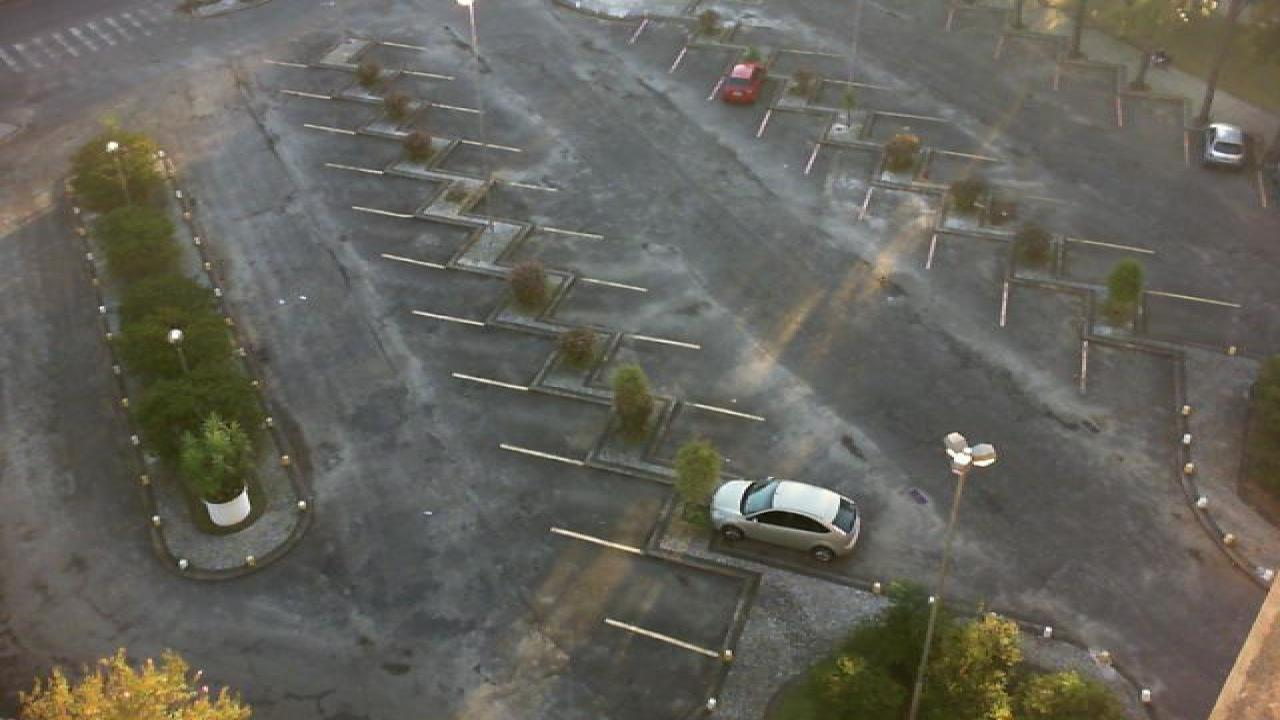Car: (710, 476, 864, 562), (714, 61, 762, 107), (1204, 122, 1250, 168)
